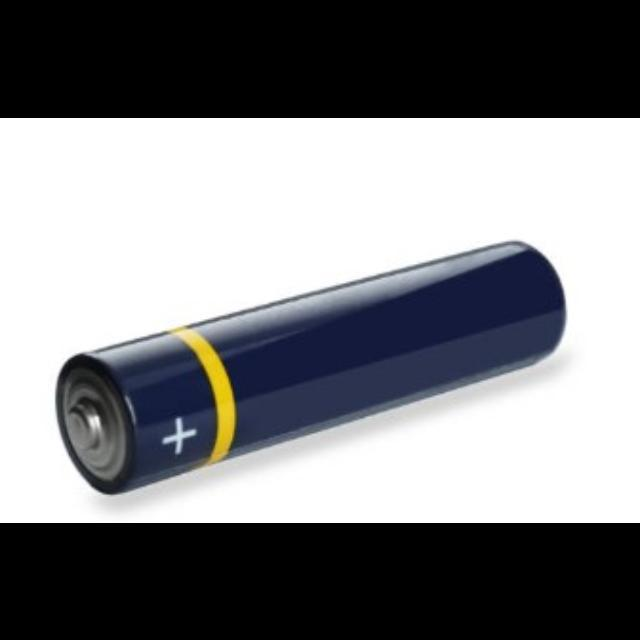Battery: (53, 239, 568, 496)
